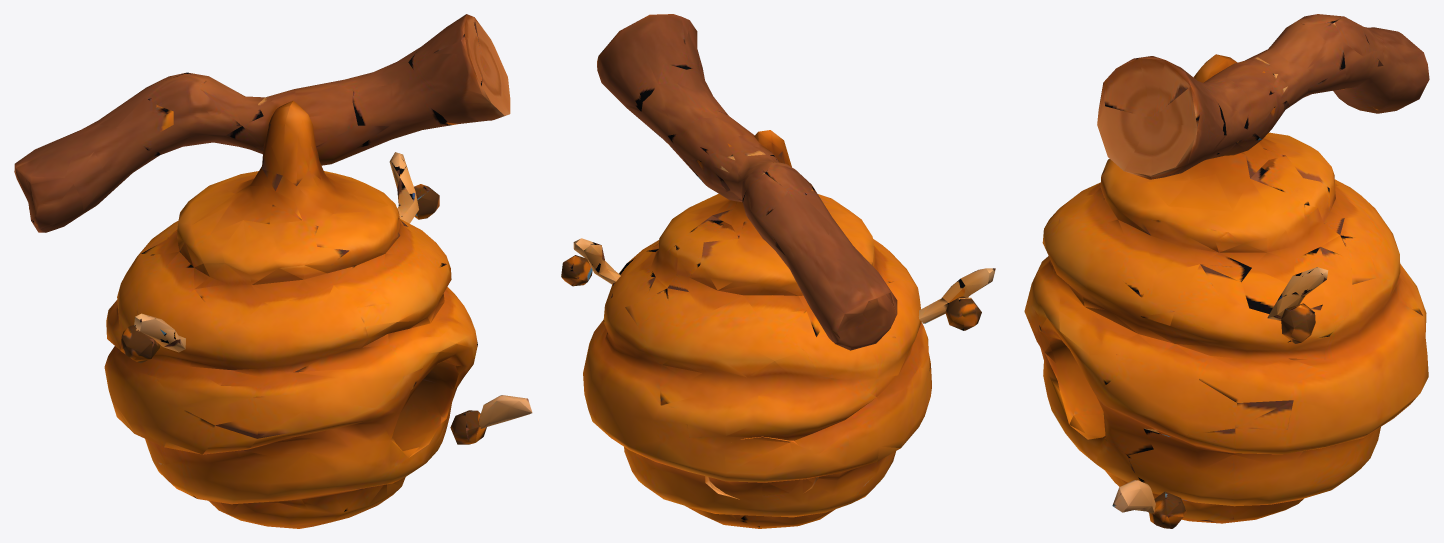
File: colmena_2500.glb
The picture shows the model from 3 angles, left to right: view 1: azimuth 30°, elevation 25°; view 2: azimuth 150°, elevation 25°; view 3: azimuth 270°, elevation 25°; orthographic projection. The views are drawn at different scales.
Visible parts, largest first — view 1: colmena_malla; view 2: colmena_malla; view 3: colmena_malla.
Part boxes in pixels (<box>): colmena_malla: <box>14,14,532,528</box>; colmena_malla: <box>561,14,995,528</box>; colmena_malla: <box>1024,14,1429,528</box>.
Size of the model in its own units: 0.4236 by 0.4922 by 0.3461.
Materials: 1 (1 with a texture image).
